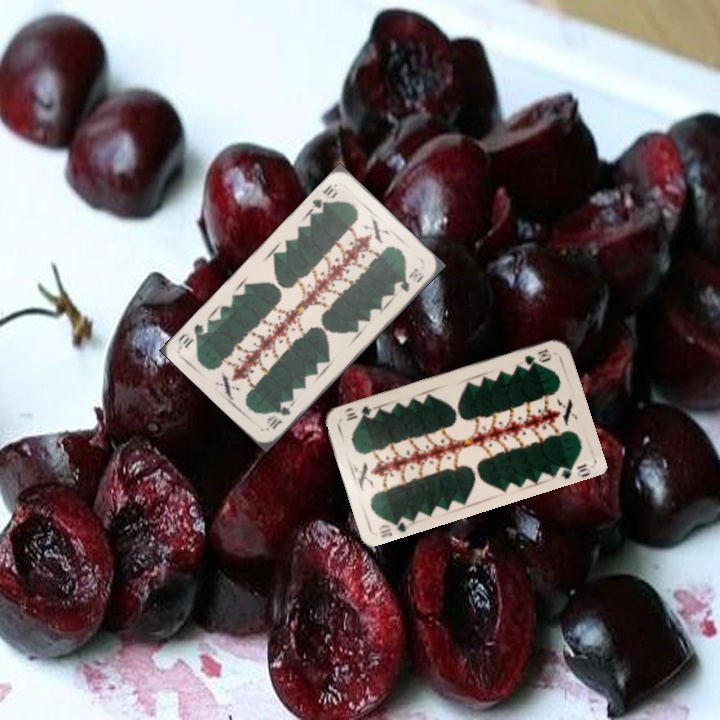G10: (308, 180, 340, 216), (374, 513, 411, 540), (263, 402, 293, 432), (520, 345, 554, 368)
